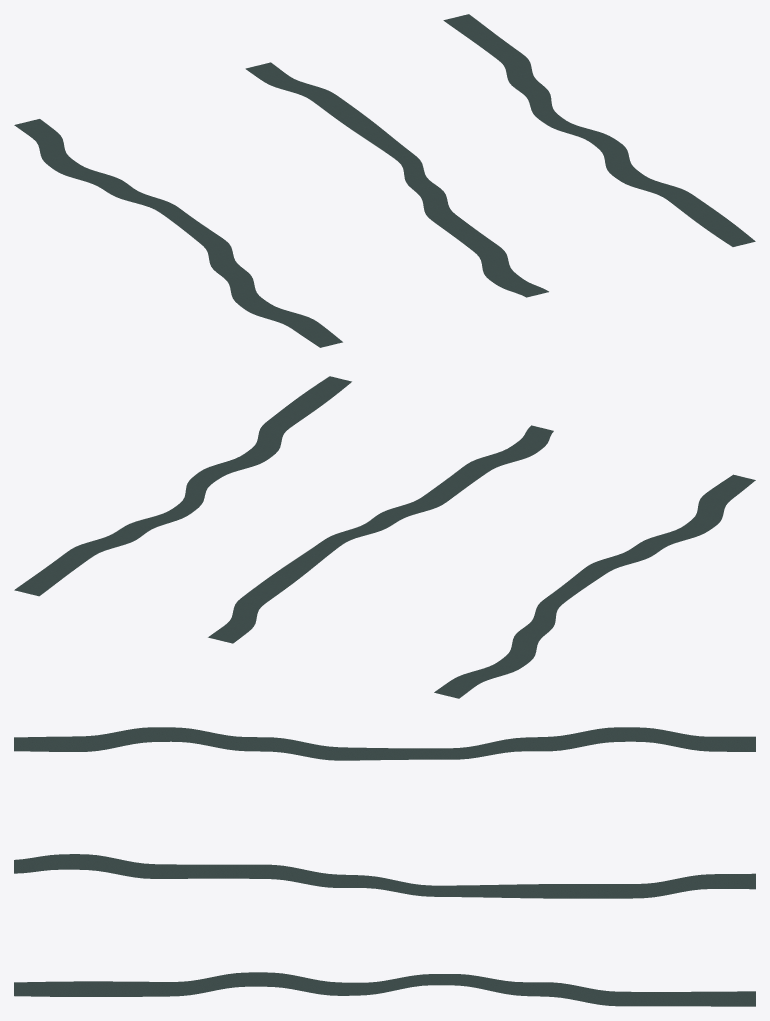
The model's file is water.glb.
3 views of the same model, one above another, from view 1: azimuth 30°, elevation 25°; view 2: azimuth 150°, elevation 25°; view 3: azimuth 270°, elevation 25° (orthographic). The views are drawn at different scales.
Visible parts, largest first — view 1: RiverWater_0, RiverWater_2, RiverWater_1; view 2: RiverWater_2, RiverWater_1, RiverWater_0; view 3: RiverWater_0, RiverWater_2, RiverWater_1.
Boxes of the visible parts, x1,y1,x2,y2 form: RiverWater_0: (14,119,342,347); RiverWater_2: (443,14,755,246); RiverWater_1: (245,62,548,297); RiverWater_2: (14,376,351,596); RiverWater_1: (208,425,553,643); RiverWater_0: (434,474,755,698); RiverWater_0: (14,727,755,760); RiverWater_2: (14,972,755,1006); RiverWater_1: (14,854,755,898).
Size of the model in its own units: 143 by 0 by 160.
Materials: 1 (1 with a texture image).
